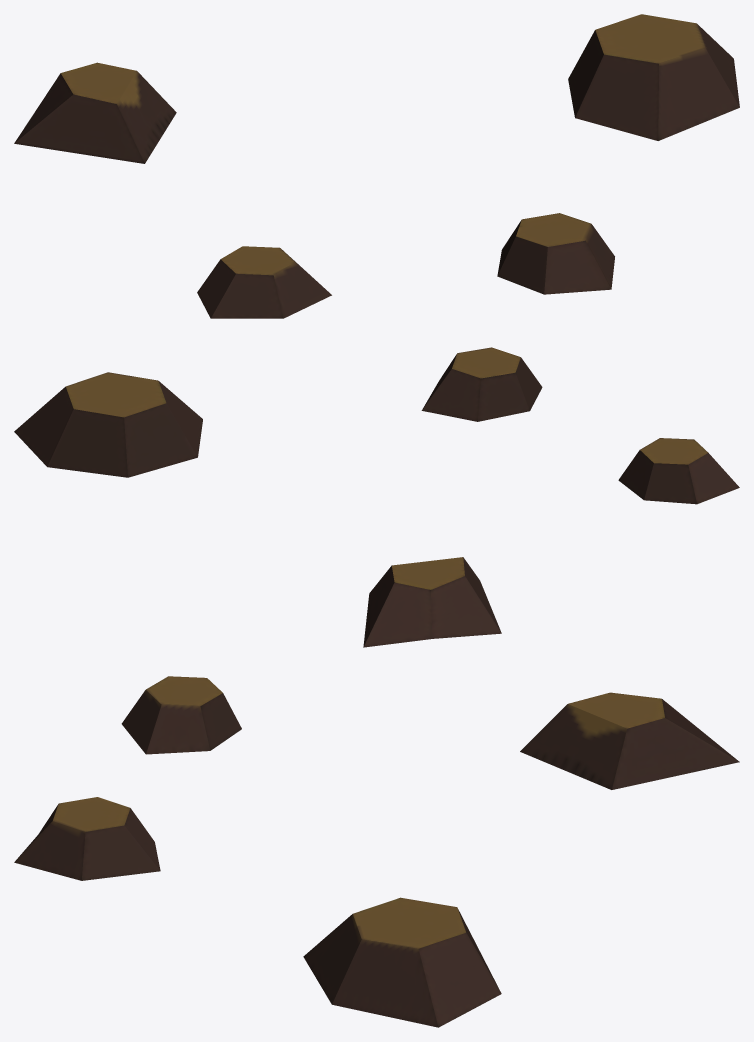
The model's file is tile_wood_1_ruin_lod2.fbx.
3 renders of one model, top to bottom at view 1: azimuth 30°, elevation 25°; view 2: azimuth 150°, elevation 25°; view 3: azimuth 270°, elevation 25°, orthographic. The views are drawn at different scales.
Parts seen in each view (by area): view 1: wood_1_ruin_lod2; view 2: wood_1_ruin_lod2; view 3: wood_1_ruin_lod2.
Boxes of the visible parts, x1,y1,x2,y2 form: wood_1_ruin_lod2: [14, 14, 739, 318]; wood_1_ruin_lod2: [14, 347, 739, 647]; wood_1_ruin_lod2: [14, 676, 739, 1027].
Bounding box in the file's own units: 0.0489 × 0.00383 × 0.0453.
